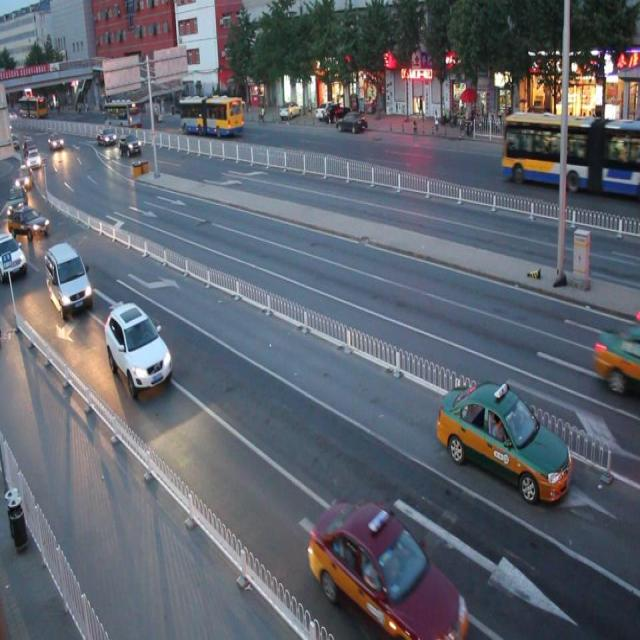car: (310, 498, 468, 640), (438, 378, 572, 505), (103, 300, 173, 397), (44, 239, 94, 319)
van: (500, 109, 640, 200)
